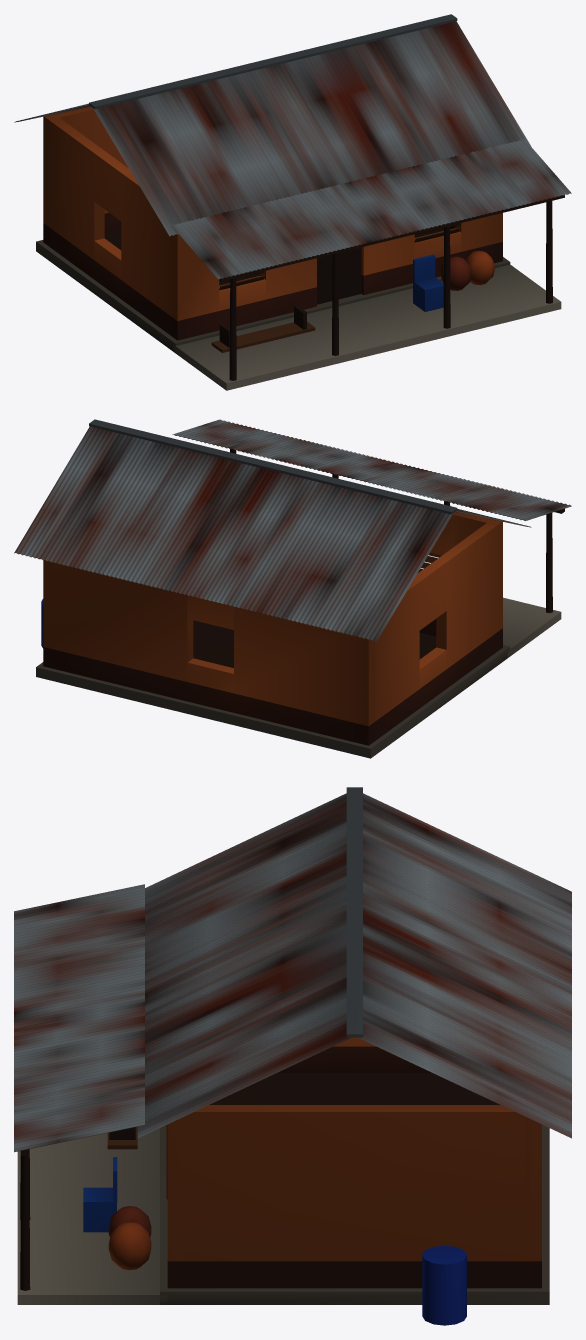
Rendered from fm_house.glb.
3 views of the same model, one above another, from view 1: azimuth 30°, elevation 25°; view 2: azimuth 150°, elevation 25°; view 3: azimuth 270°, elevation 25° (orthographic). The views are drawn at different scales.
Parts seen in each view (by area): view 1: fm_house; view 2: fm_house; view 3: fm_house.
Boxes of the visible parts, bbox=[...] form: fm_house: bbox=[14, 14, 571, 390]; fm_house: bbox=[14, 419, 571, 758]; fm_house: bbox=[14, 787, 571, 1325].
Bounding box in the file's own units: 8.15 × 4.13 × 7.45.
